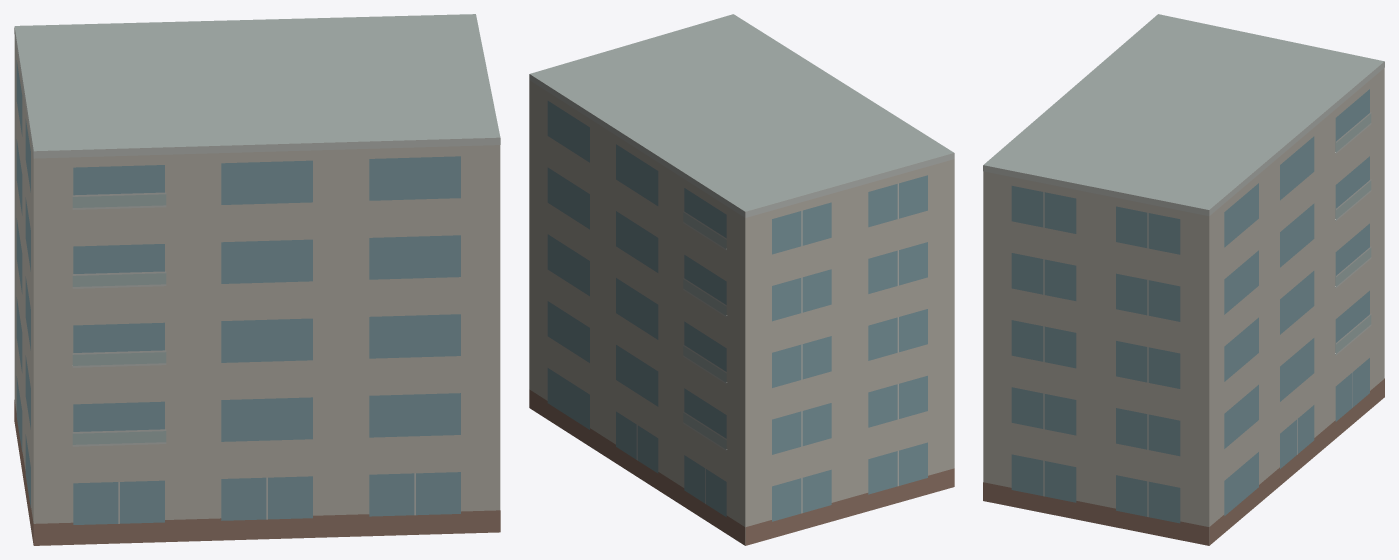
File: survey-upis-32842920.glb
The picture shows the model from 3 angles, left to right: view 1: azimuth 30°, elevation 25°; view 2: azimuth 150°, elevation 25°; view 3: azimuth 270°, elevation 25°; orthographic projection. The views are drawn at different scales.
Parts seen in each view (by area): view 1: survey-upis-32842920.tmp; view 2: survey-upis-32842920.tmp; view 3: survey-upis-32842920.tmp.
Part boxes in pixels (x1,y1,x2,y2): survey-upis-32842920.tmp: (14, 14, 500, 545); survey-upis-32842920.tmp: (529, 14, 954, 545); survey-upis-32842920.tmp: (983, 14, 1384, 545).
Size of the model in its own units: 16.47 by 13.15 by 14.26.
